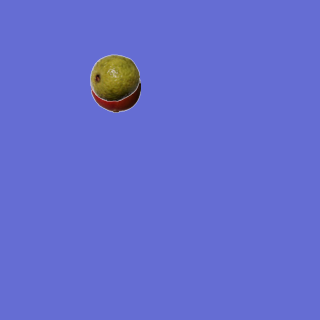Apple Braeburn: (90, 62, 140, 112)
Guava: (89, 52, 139, 102)
